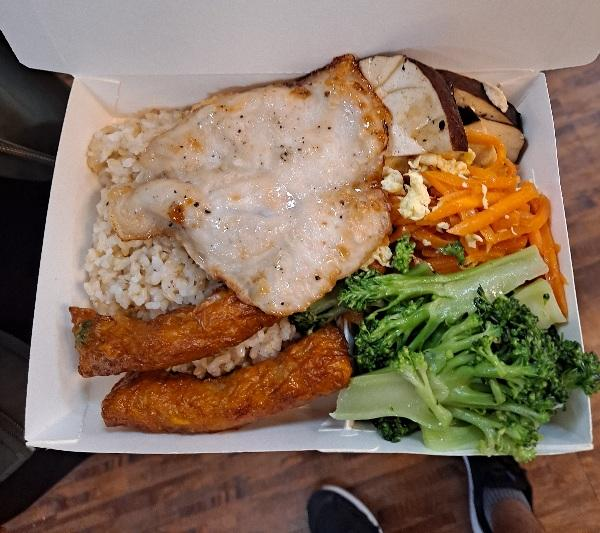big grilled chicken leg: (8, 63, 600, 477)
box: (82, 102, 303, 376)
braised fish fillet: (327, 249, 585, 455), (375, 158, 558, 274), (358, 49, 531, 168)
braised pork: (113, 55, 388, 314), (63, 285, 358, 434)
